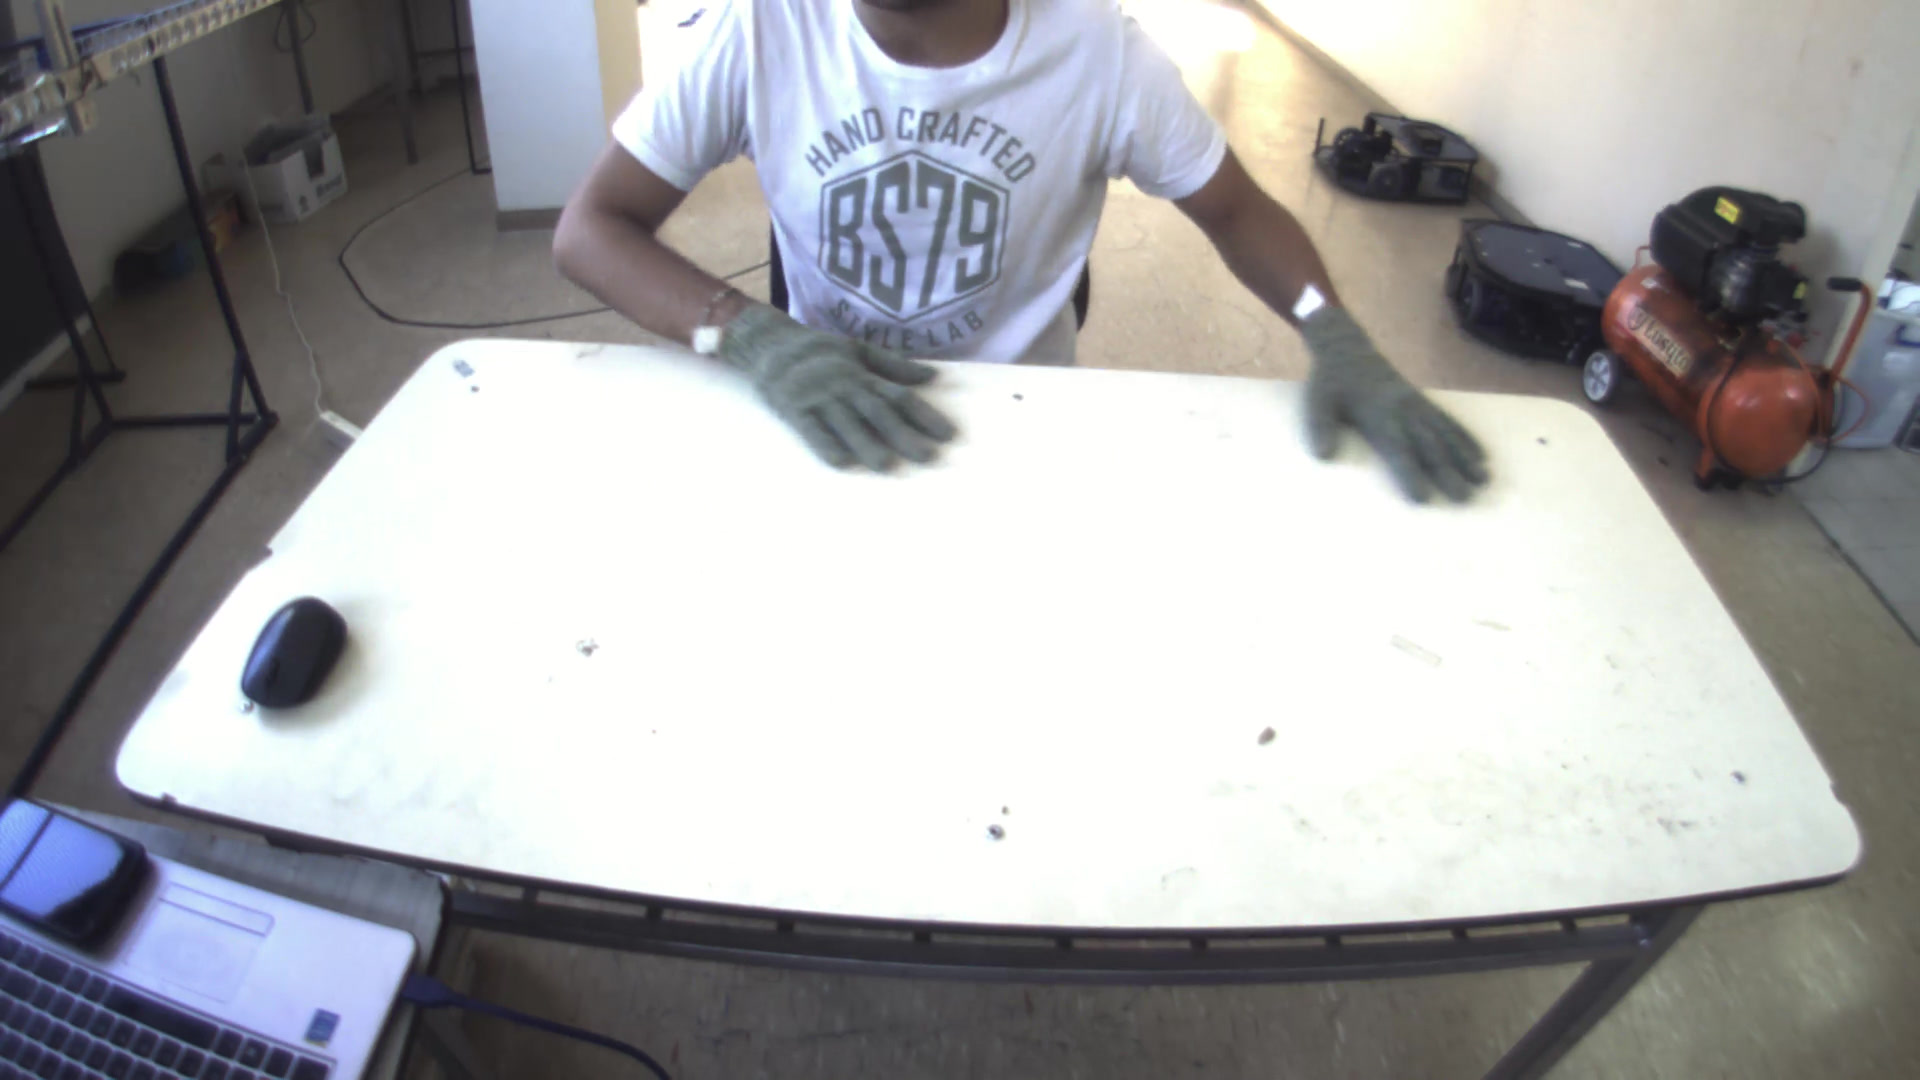hand: (694, 282, 973, 480), (1286, 303, 1502, 505)
